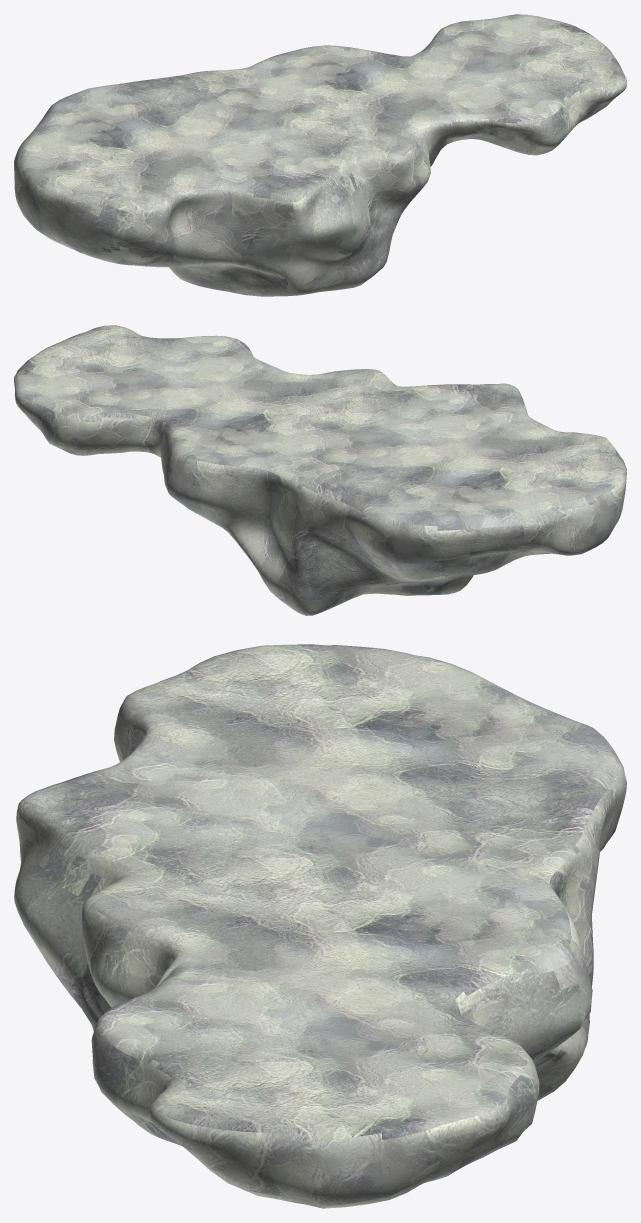
Rendered from Efir platform2.fbx.
3 views of the same model, one above another, from view 1: azimuth 30°, elevation 25°; view 2: azimuth 150°, elevation 25°; view 3: azimuth 270°, elevation 25° (orthographic). The views are drawn at different scales.
Parts seen in each view (by area): view 1: Cloud_platform; view 2: Cloud_platform; view 3: Cloud_platform.
Boxes of the visible parts, x1=… form: Cloud_platform: x1=14, y1=14, x2=626, y2=296; Cloud_platform: x1=14, y1=325, x2=626, y2=615; Cloud_platform: x1=14, y1=644, x2=626, y2=1208.
Bounding box in the file's own units: 343 × 82.79 × 178.
Materials: 1 (1 with a texture image).
